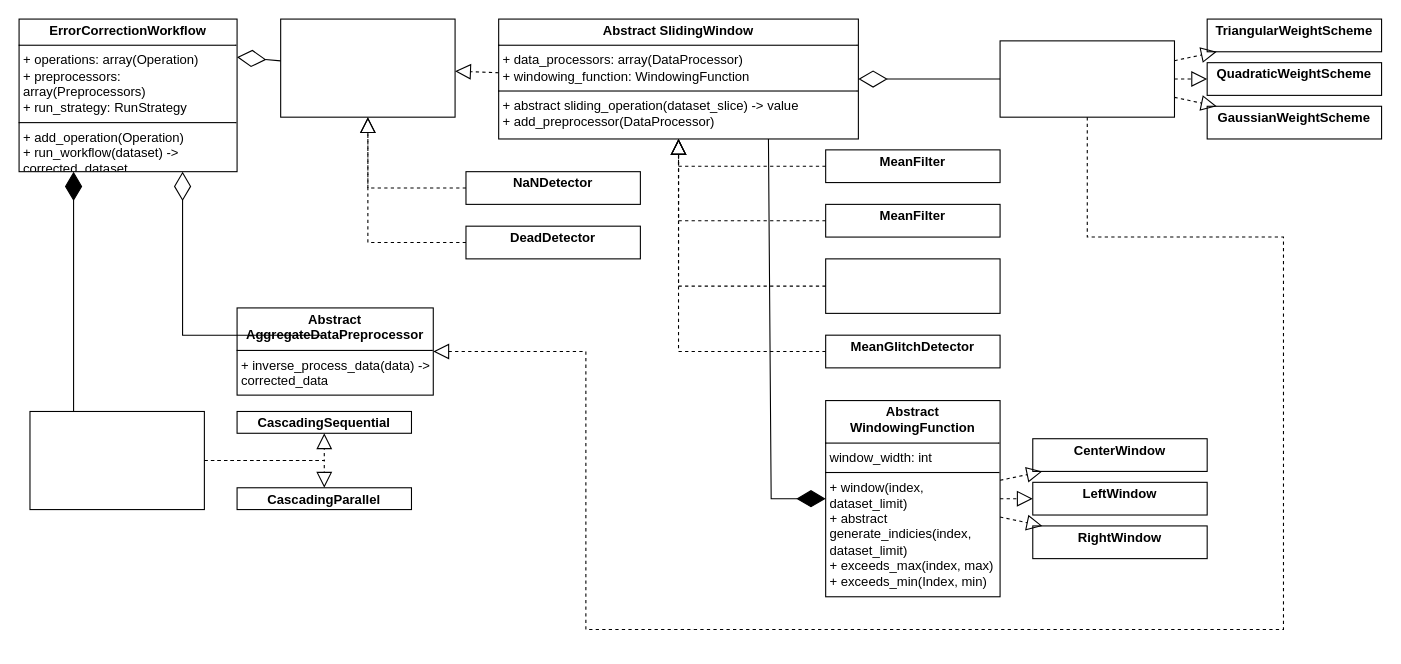
The diagram is 1401 pixels wide and 664 high, and some of its shapes have lost their labels. The centre of each missing label's shape, as x and y in pixels:
"Abstract DataPreprocessor + process_data(data) -> corrected_data" goes at pixel 1086 78.
"Abstract Operation + + abstract run(dataset) ->corrected_dataset" goes at pixel 367 67.
"Abstract RunStrategy + abstract run_operations(Operations) -> corrected_dataset" goes at pixel 116 460.
"PolynomialFilter + polynomial_degree: int" goes at pixel 912 285.
